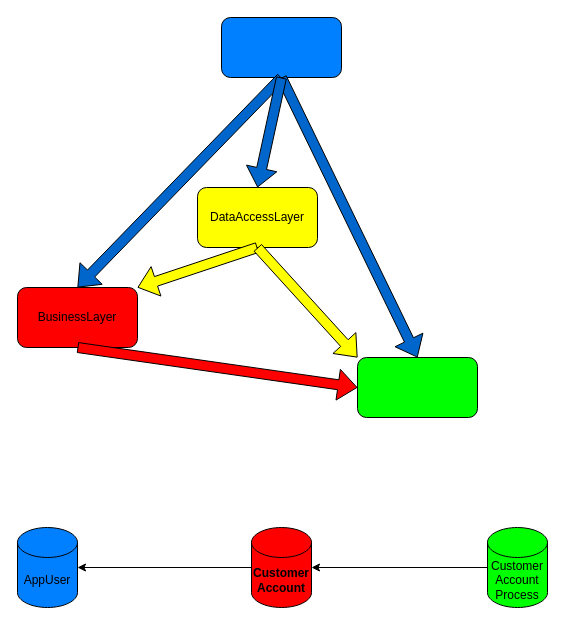
Some shapes in this 565 by 625 pixel diagram are drawn without their labels. Here are the shapes that lost their labels. From the top down, the centre of each, then its label:
At point (281, 47): "EntityLayer".
At point (417, 387): "PresentationLayer".
